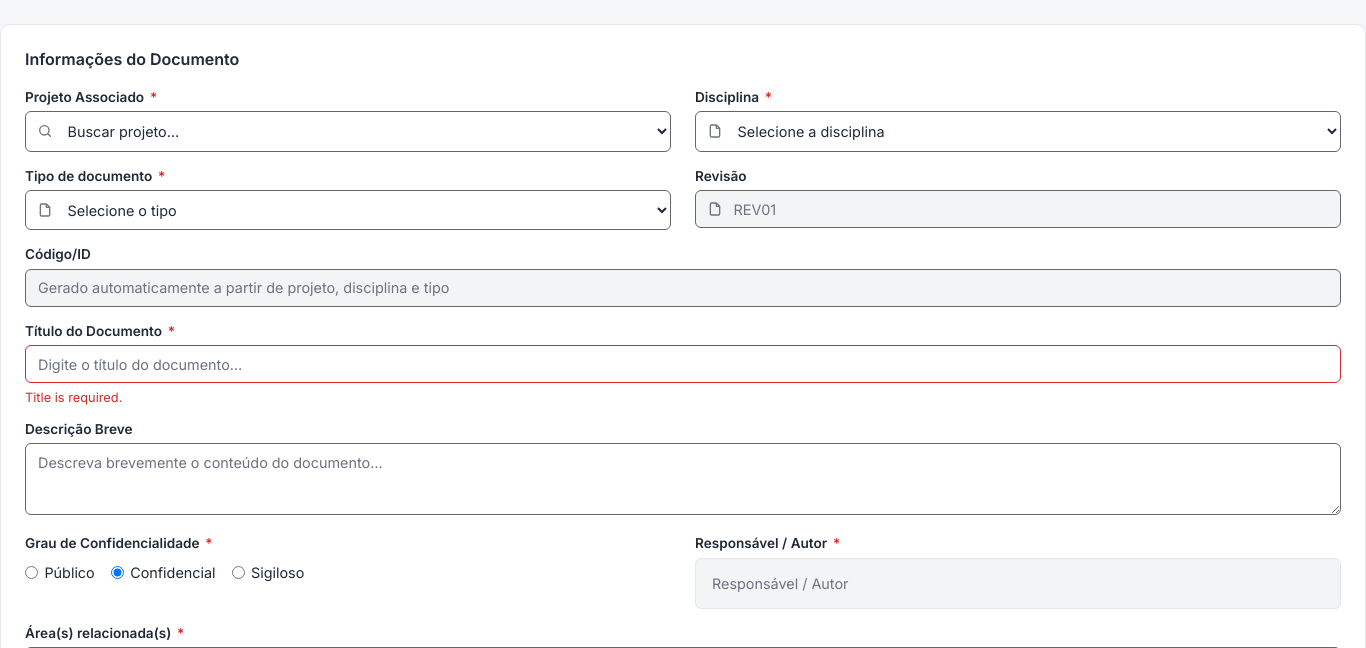
Test: MetadataStep › should show a backend field error right away and clear it when the field changes
Type "Desenho da fuselagem central" into the field with id "title" at (683, 364), box [25, 345, 1341, 383]
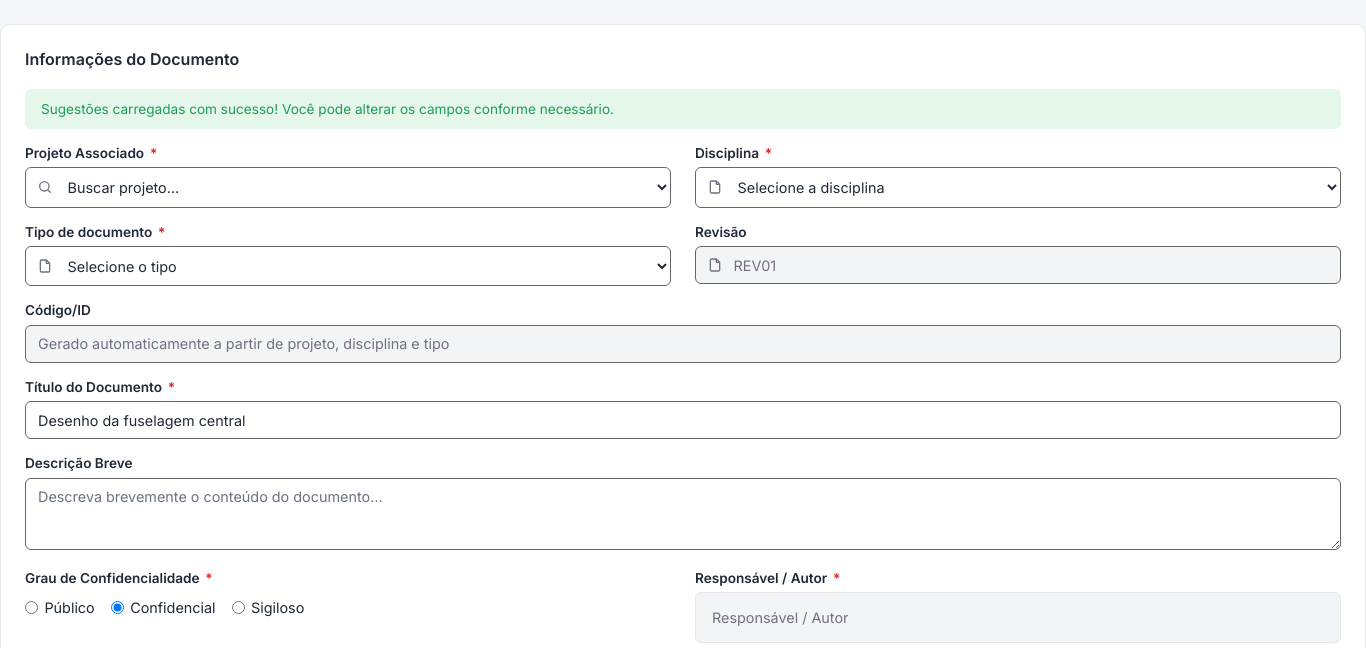
Check: the text "Title is required." is gone
